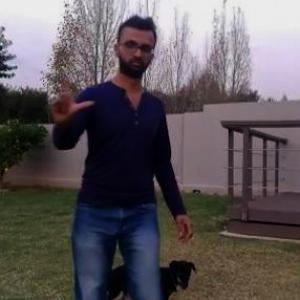land_hand: (41, 57, 95, 126)
